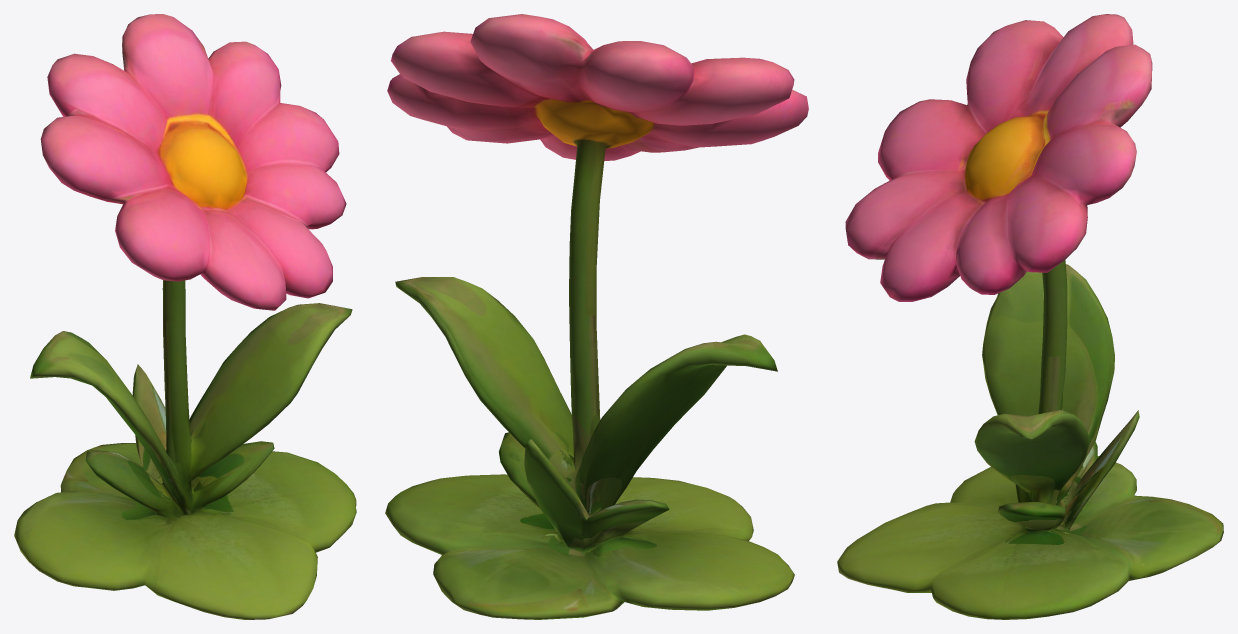
The model's file is Sunlit_Blossom_1111142848_texture.glb.
3 renders of one model, left to right at view 1: azimuth 30°, elevation 25°; view 2: azimuth 150°, elevation 25°; view 3: azimuth 270°, elevation 25°, orthographic. The views are drawn at different scales.
Visible parts, largest first — view 1: Mesh1.0; view 2: Mesh1.0; view 3: Mesh1.0.
Boxes of the visible parts, x1,y1,x2,y2 form: Mesh1.0: (14, 14, 356, 619); Mesh1.0: (385, 14, 808, 619); Mesh1.0: (837, 14, 1223, 619).
Bounding box in the file's own units: 1.35 × 2 × 1.34.
Materials: 1 (1 with a texture image).
